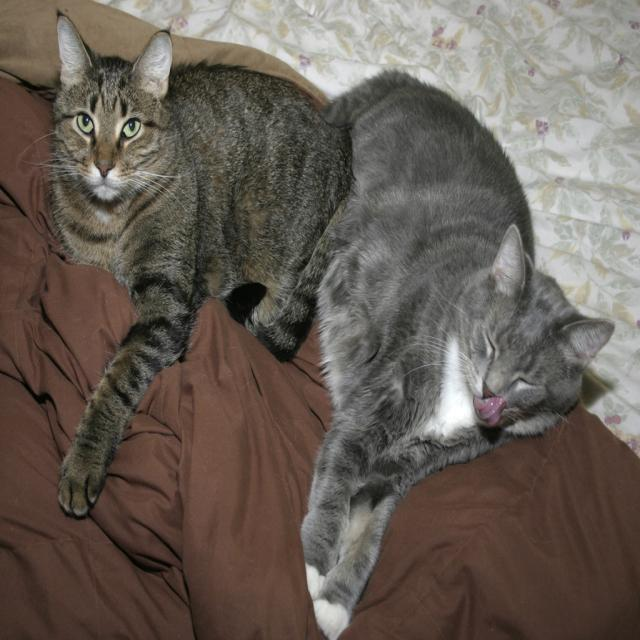Cat: (219, 67, 615, 639), (17, 5, 356, 515)
